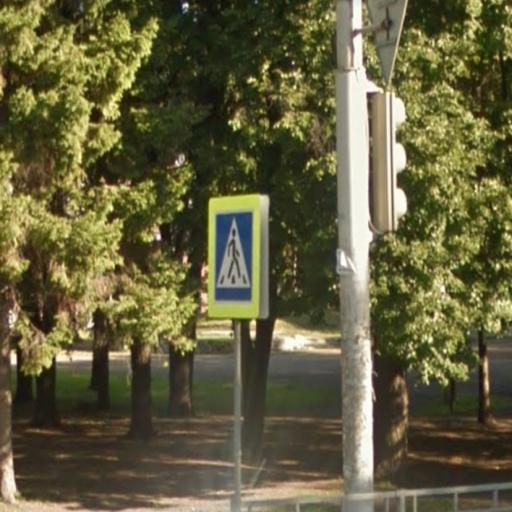traffic_sign: (206, 189, 266, 325)
